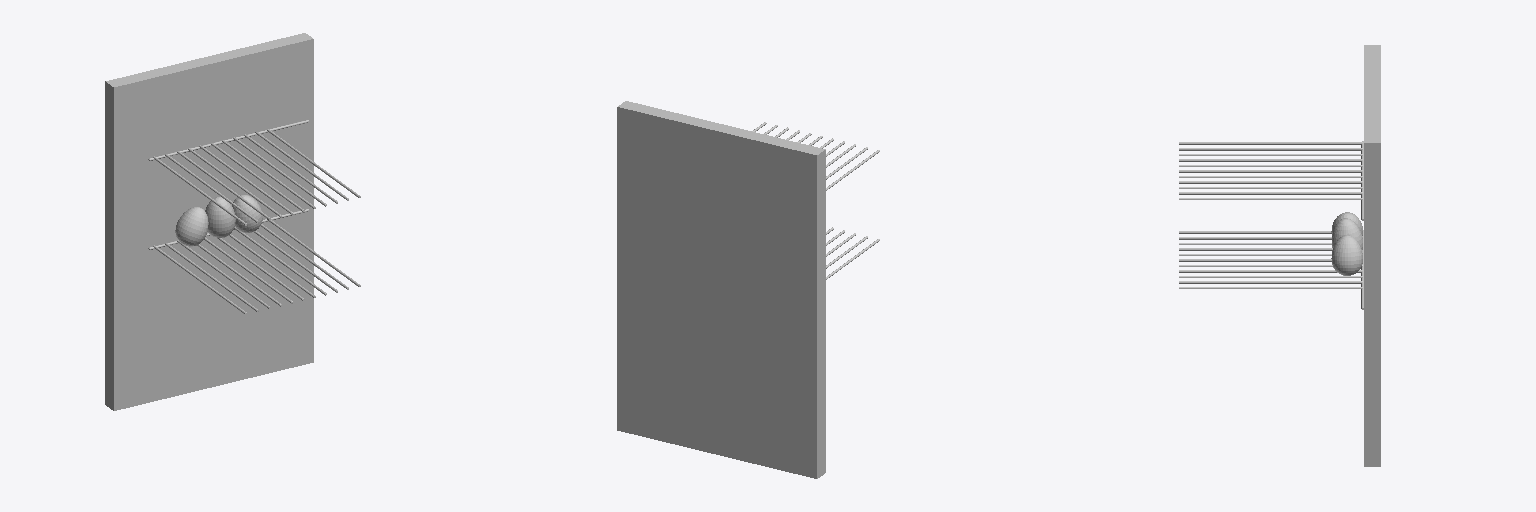
The model's file is egghang.obj.
3 views of the same model, side by side, from view 1: azimuth 30°, elevation 25°; view 2: azimuth 150°, elevation 25°; view 3: azimuth 270°, elevation 25° (orthographic).
Visible parts, largest first — view 1: egghang_Abashed_Egg; view 2: egghang_Abashed_Egg; view 3: egghang_Abashed_Egg.
Boxes of the visible parts, x1,y1,x2,y2 form: egghang_Abashed_Egg: [105, 33, 360, 410]; egghang_Abashed_Egg: [617, 101, 879, 478]; egghang_Abashed_Egg: [1179, 45, 1380, 466].
Bounding box in the file's own units: 2.1 × 3.24 × 1.84.